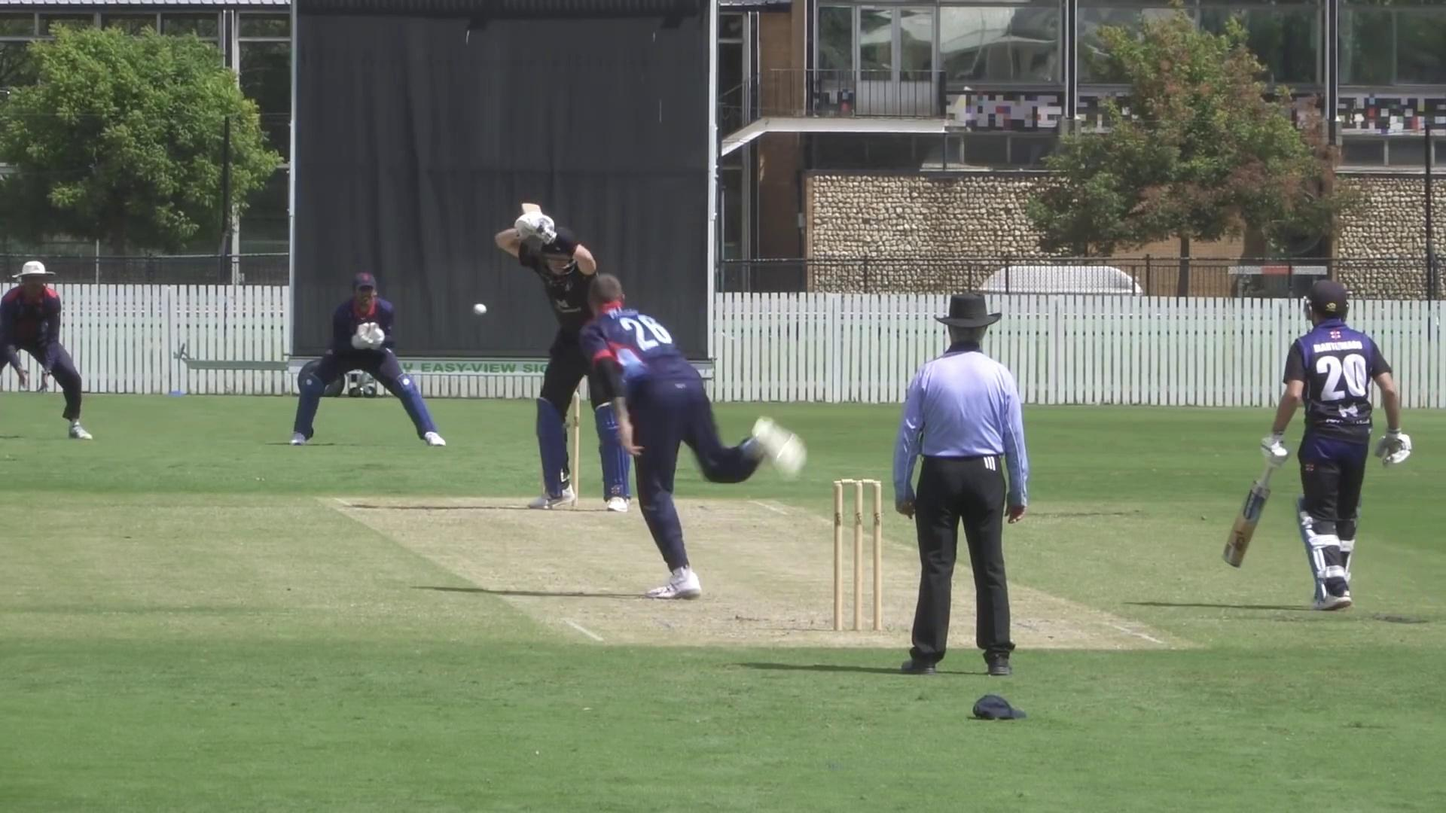ball: (469, 300, 491, 318)
